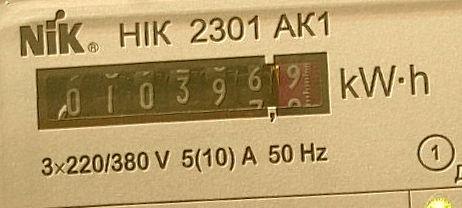0: (133, 77, 158, 112), (61, 83, 83, 118)
1: (101, 81, 117, 115)
3: (172, 73, 193, 107)
6: (243, 63, 266, 94)
9: (206, 74, 229, 108), (280, 61, 304, 93)
screen: (17, 32, 343, 151)
